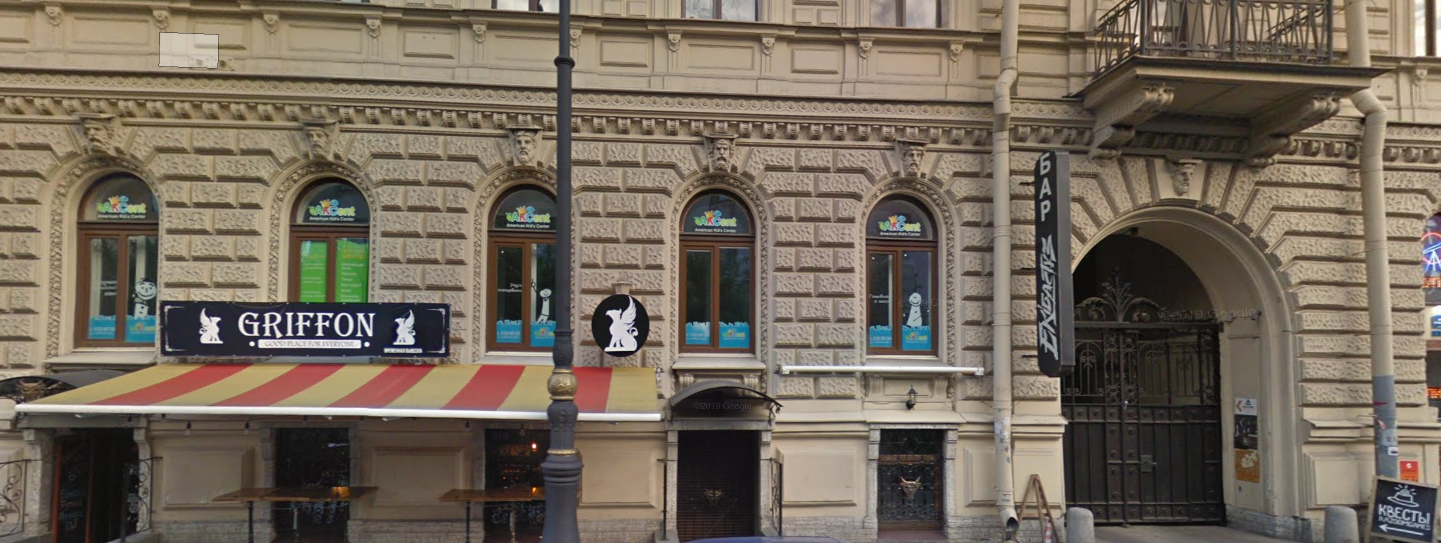arch: (1060, 187, 1300, 536)
cantilever: (1022, 141, 1075, 377)
signboard: (158, 293, 450, 357), (584, 287, 657, 366)
window: (70, 165, 162, 346), (675, 172, 761, 348), (484, 174, 561, 351), (864, 181, 938, 355), (287, 173, 375, 304), (880, 429, 948, 541)
